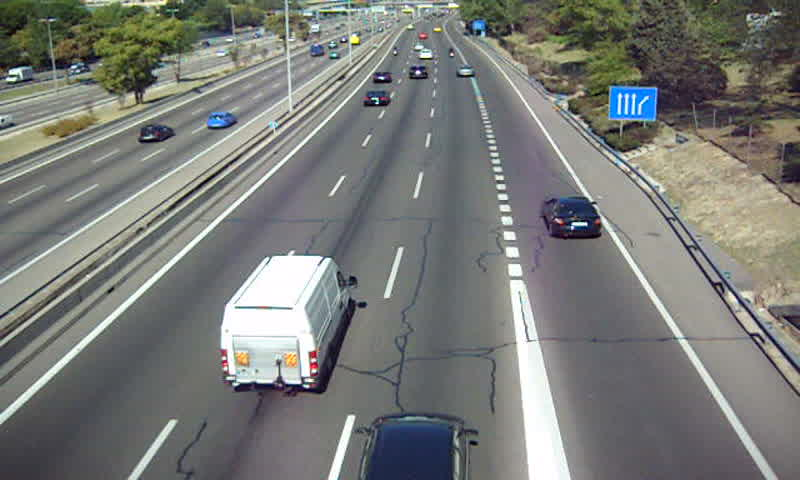car: (360, 416, 465, 480), (541, 196, 603, 240), (363, 89, 388, 106), (370, 69, 393, 84), (406, 65, 427, 81), (455, 64, 475, 78), (417, 48, 436, 60)
van: (221, 256, 356, 393)
